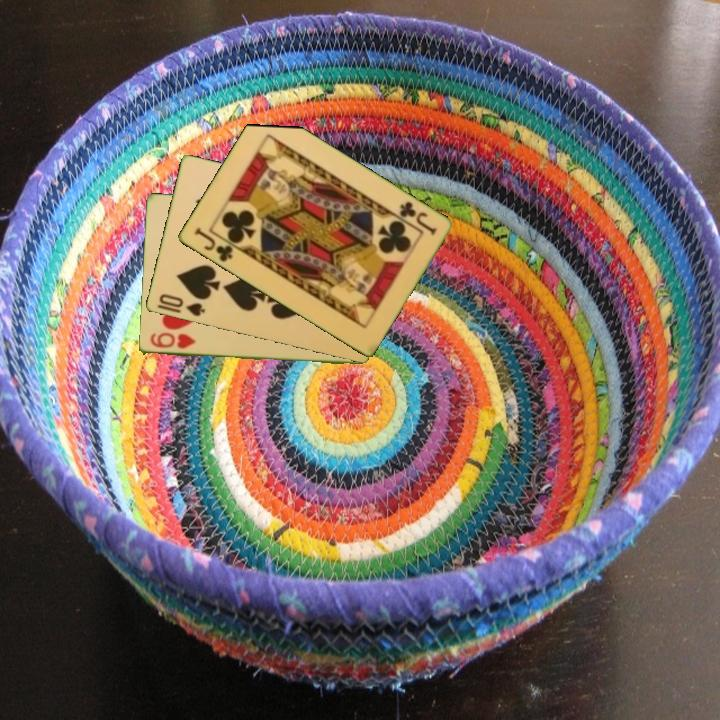10s: (155, 291, 208, 320)
6h: (147, 329, 198, 352)
Jc: (190, 224, 236, 265), (395, 198, 439, 239)
